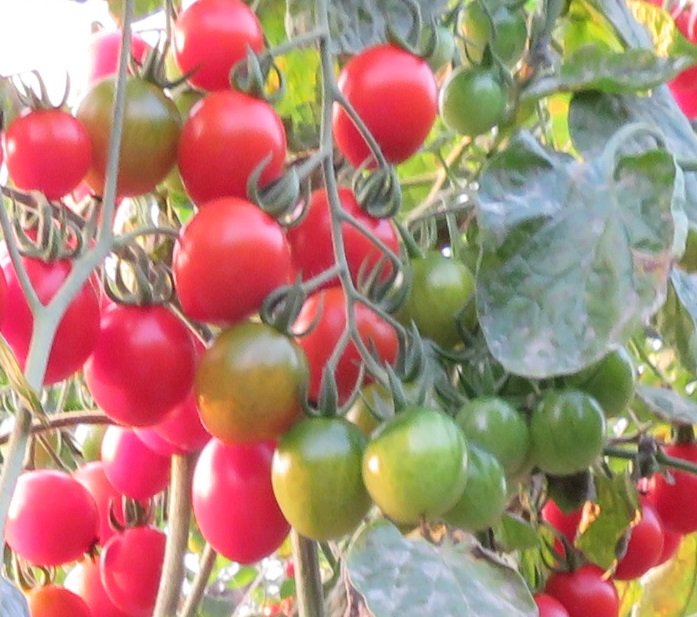green: (192, 317, 312, 446), (272, 416, 371, 546), (362, 407, 465, 530), (76, 73, 179, 194), (452, 390, 532, 482), (532, 388, 604, 481), (413, 248, 473, 353), (441, 59, 515, 134), (459, 449, 511, 538)
red: (172, 197, 306, 327), (81, 302, 193, 428), (1, 254, 103, 391), (331, 45, 441, 168), (176, 94, 290, 209), (193, 436, 280, 567), (295, 187, 402, 292), (300, 290, 399, 399), (2, 470, 99, 564), (175, 1, 267, 93), (1, 109, 94, 199), (599, 498, 666, 585), (100, 528, 165, 617), (102, 422, 169, 501), (548, 555, 624, 617)
